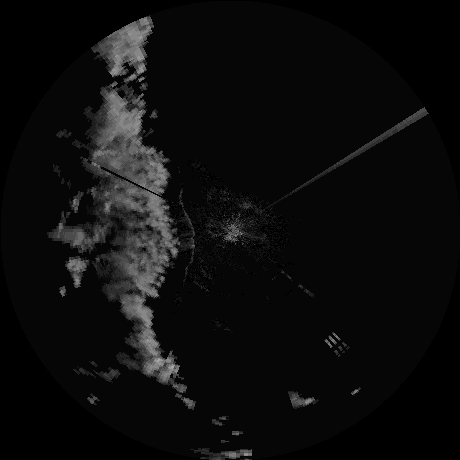frontgust: (175, 187, 198, 280)
